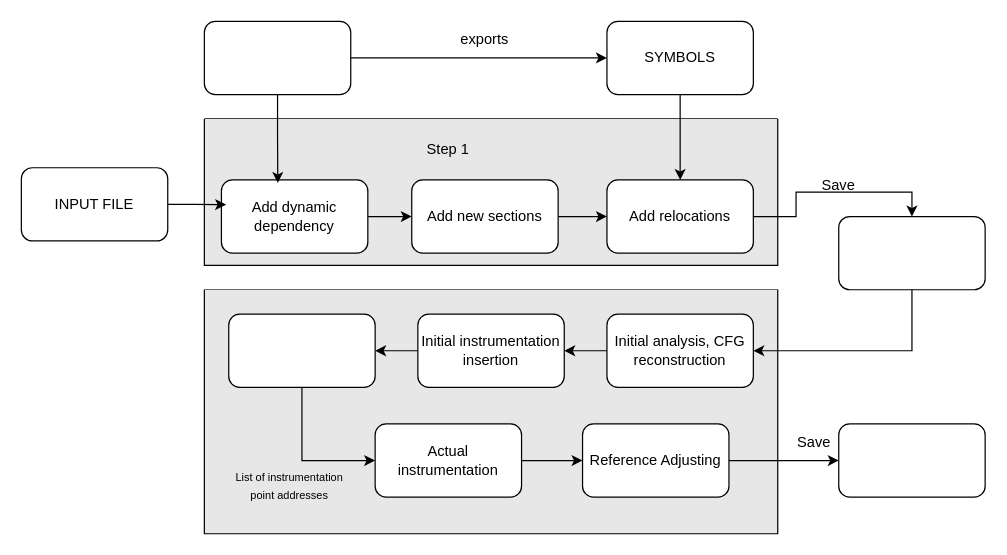
Image size: 1007x555. Some labels were removed from this diagram. The centre of each missing label's shape, as x and y in pixels:
"Instrumentation point search" goes at pixel 301 350.
"LIBFORKSERVER.SO" goes at pixel 277 57.
"PARTIALLY PATCHED FILE" goes at pixel 911 252.
"PATCHED" goes at pixel 911 460.
